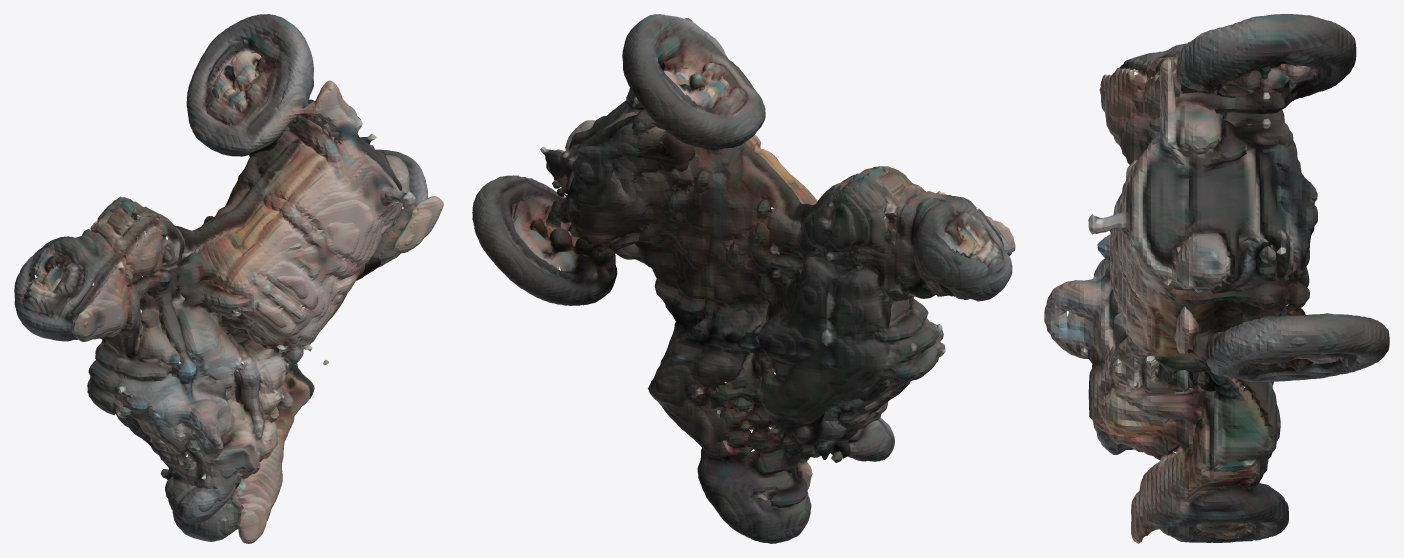
File: 000009_antique car_automobile_old.glb
3 views of the same model, side by side, from view 1: azimuth 30°, elevation 25°; view 2: azimuth 150°, elevation 25°; view 3: azimuth 270°, elevation 25° (orthographic). The views are drawn at different scales.
Parts seen in each view (by area): view 1: world; view 2: world; view 3: world.
Boxes of the visible parts, bbox=[...] form: world: bbox=[14, 14, 443, 543]; world: bbox=[472, 14, 1015, 543]; world: bbox=[1044, 14, 1389, 543].
Size of the model in its own units: 1.04 by 1.06 by 0.5627.
